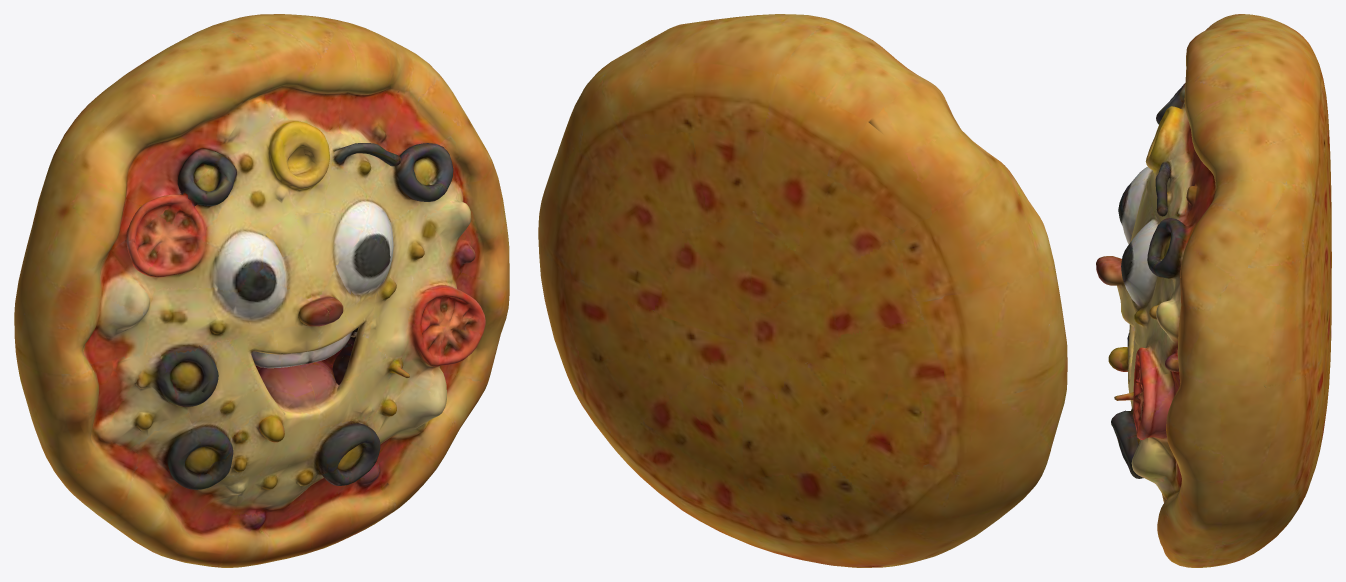
The picture shows the model from 3 angles, left to right: view 1: azimuth 30°, elevation 25°; view 2: azimuth 150°, elevation 25°; view 3: azimuth 270°, elevation 25°; orthographic projection. The views are drawn at different scales.
Size of the model in its own units: 1.82 by 1.88 by 0.8017.
Materials: 1 (1 with a texture image).
